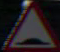Speed Breaker ahead: (8, 4, 50, 48)
